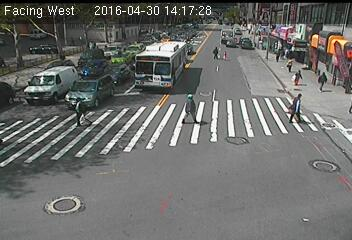neg: (22, 65, 54, 108), (193, 171, 219, 207), (260, 148, 286, 183), (307, 156, 333, 191), (39, 156, 64, 190), (125, 51, 149, 83), (136, 152, 158, 181)
pos: (174, 88, 205, 129), (68, 93, 93, 126), (291, 93, 313, 122), (315, 70, 331, 90), (210, 44, 224, 62), (294, 68, 307, 85), (284, 54, 296, 70)
